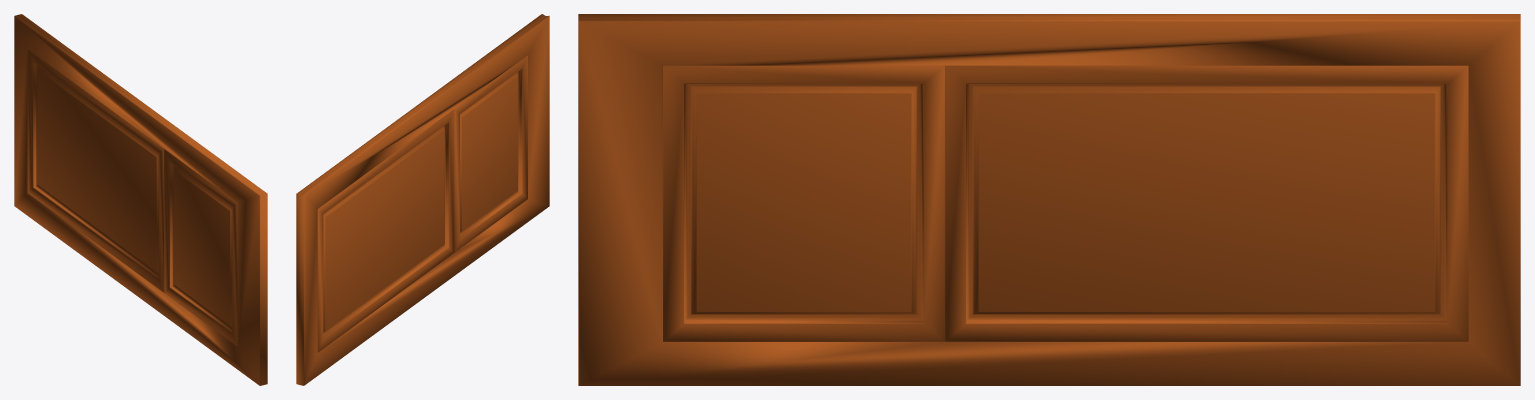
Rendered from door2.obj.
The picture shows the model from 3 angles, left to right: view 1: azimuth 30°, elevation 25°; view 2: azimuth 150°, elevation 25°; view 3: azimuth 270°, elevation 25°; orthographic projection. The views are drawn at different scales.
Parts seen in each view (by area): view 1: Door_Sheet001; view 2: Door_Sheet001; view 3: Door_Sheet001.
Part boxes in pixels (left/top/right/bottom): Door_Sheet001: left=14, top=14, right=267, bottom=385; Door_Sheet001: left=296, top=14, right=549, bottom=385; Door_Sheet001: left=578, top=14, right=1520, bottom=385.
Size of the model in its own units: 0.0389 by 0.8558 by 2.
